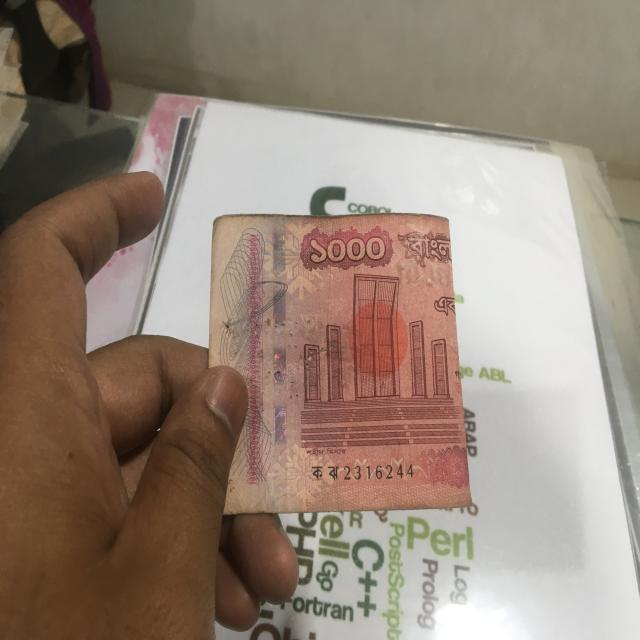Taka: (215, 208, 468, 504)
